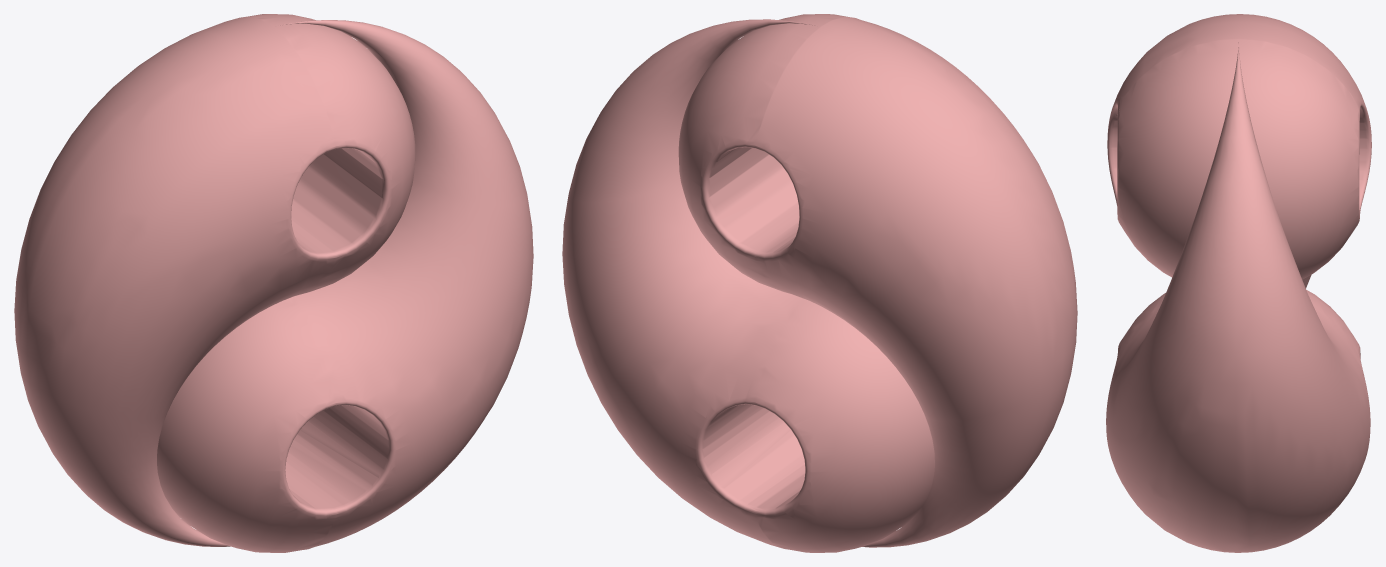
Rendered from tai_chi.glb.
3 renders of one model, left to right at view 1: azimuth 30°, elevation 25°; view 2: azimuth 150°, elevation 25°; view 3: azimuth 270°, elevation 25°, orthographic. The views are drawn at different scales.
Visible parts, largest first — view 1: Object_2; view 2: Object_2; view 3: Object_2.
Part boxes in pixels (<box>): Object_2: <box>14,14,533,552</box>; Object_2: <box>562,14,1077,552</box>; Object_2: <box>1106,14,1371,552</box>.
Bounding box in the file's own units: 99.87 × 100 × 49.32.
